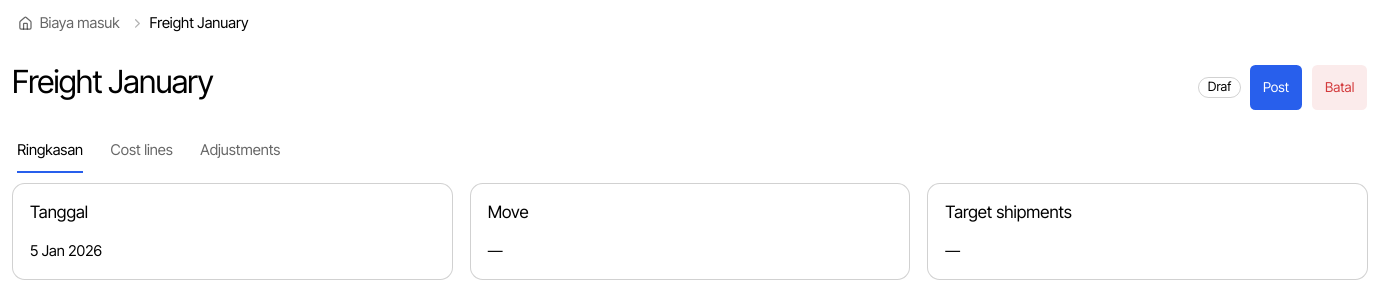
Test: InboundCostDetail branches › renders adjustments when present
The width and height of the screenshot is (1378, 297).
expect the heading "Freight January" is shown: met, box [12,64,213,100]
Click the tab "Adjustments".
click(240, 151)  # box [199,128,281,174]
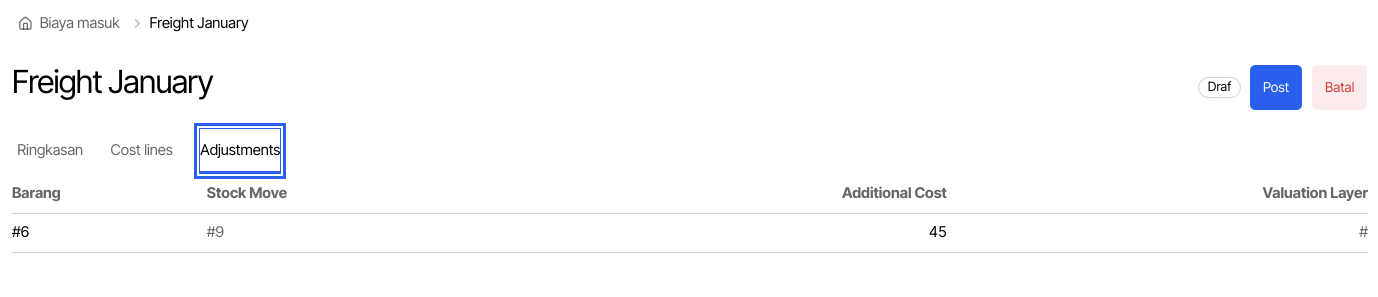
expect the text "#6" is shown: met, box [12,213,207,252]
expect the text "#9" is shown: met, box [207,213,527,252]
